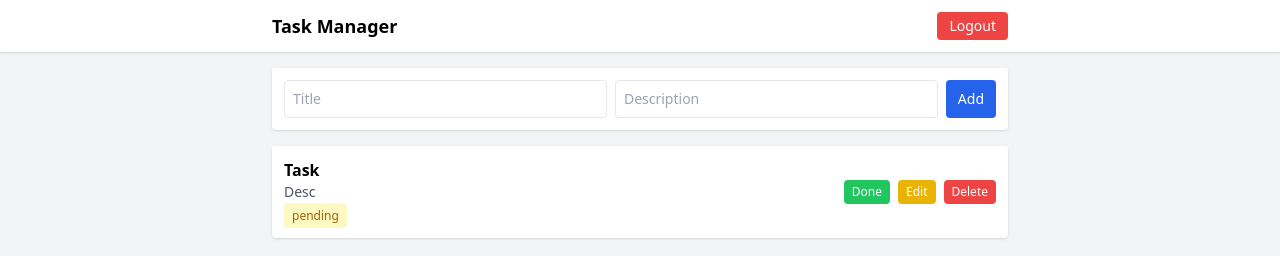
Dashboard Page › fills form when editing
Click the button "Edit" at (917, 192), box 898,180 -> 936,204
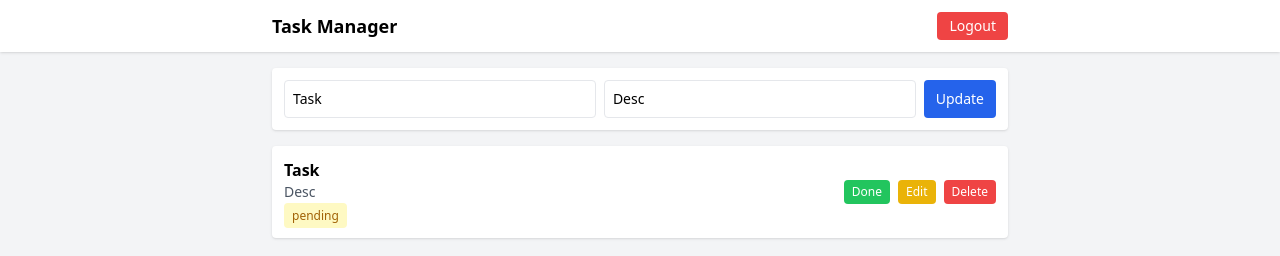
Expected: the 2nd field showing "Desc" is shown, 604,80 -> 916,118
Expected: the 1st field showing "Task" is shown, 284,80 -> 596,118
